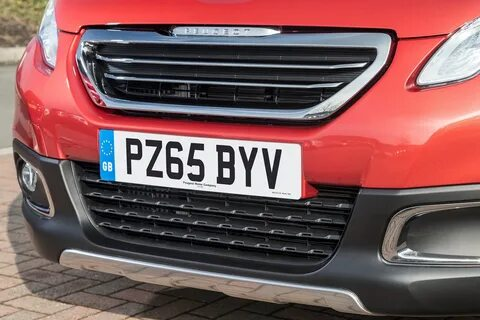number_plate: (100, 126, 303, 200)
